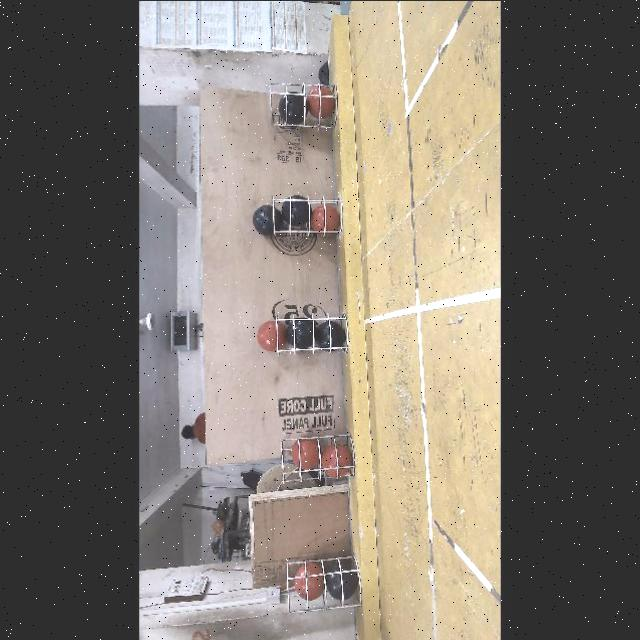P: (329, 563, 357, 599), (253, 204, 284, 235), (280, 91, 306, 125), (317, 322, 347, 351), (283, 197, 309, 226), (289, 320, 315, 346)
R: (258, 319, 288, 351), (292, 436, 320, 470), (294, 565, 322, 599), (308, 84, 336, 116), (324, 444, 352, 476), (314, 204, 341, 234)
S: (286, 557, 374, 609), (280, 434, 358, 486), (264, 190, 344, 238), (272, 313, 350, 359), (269, 76, 335, 130)
